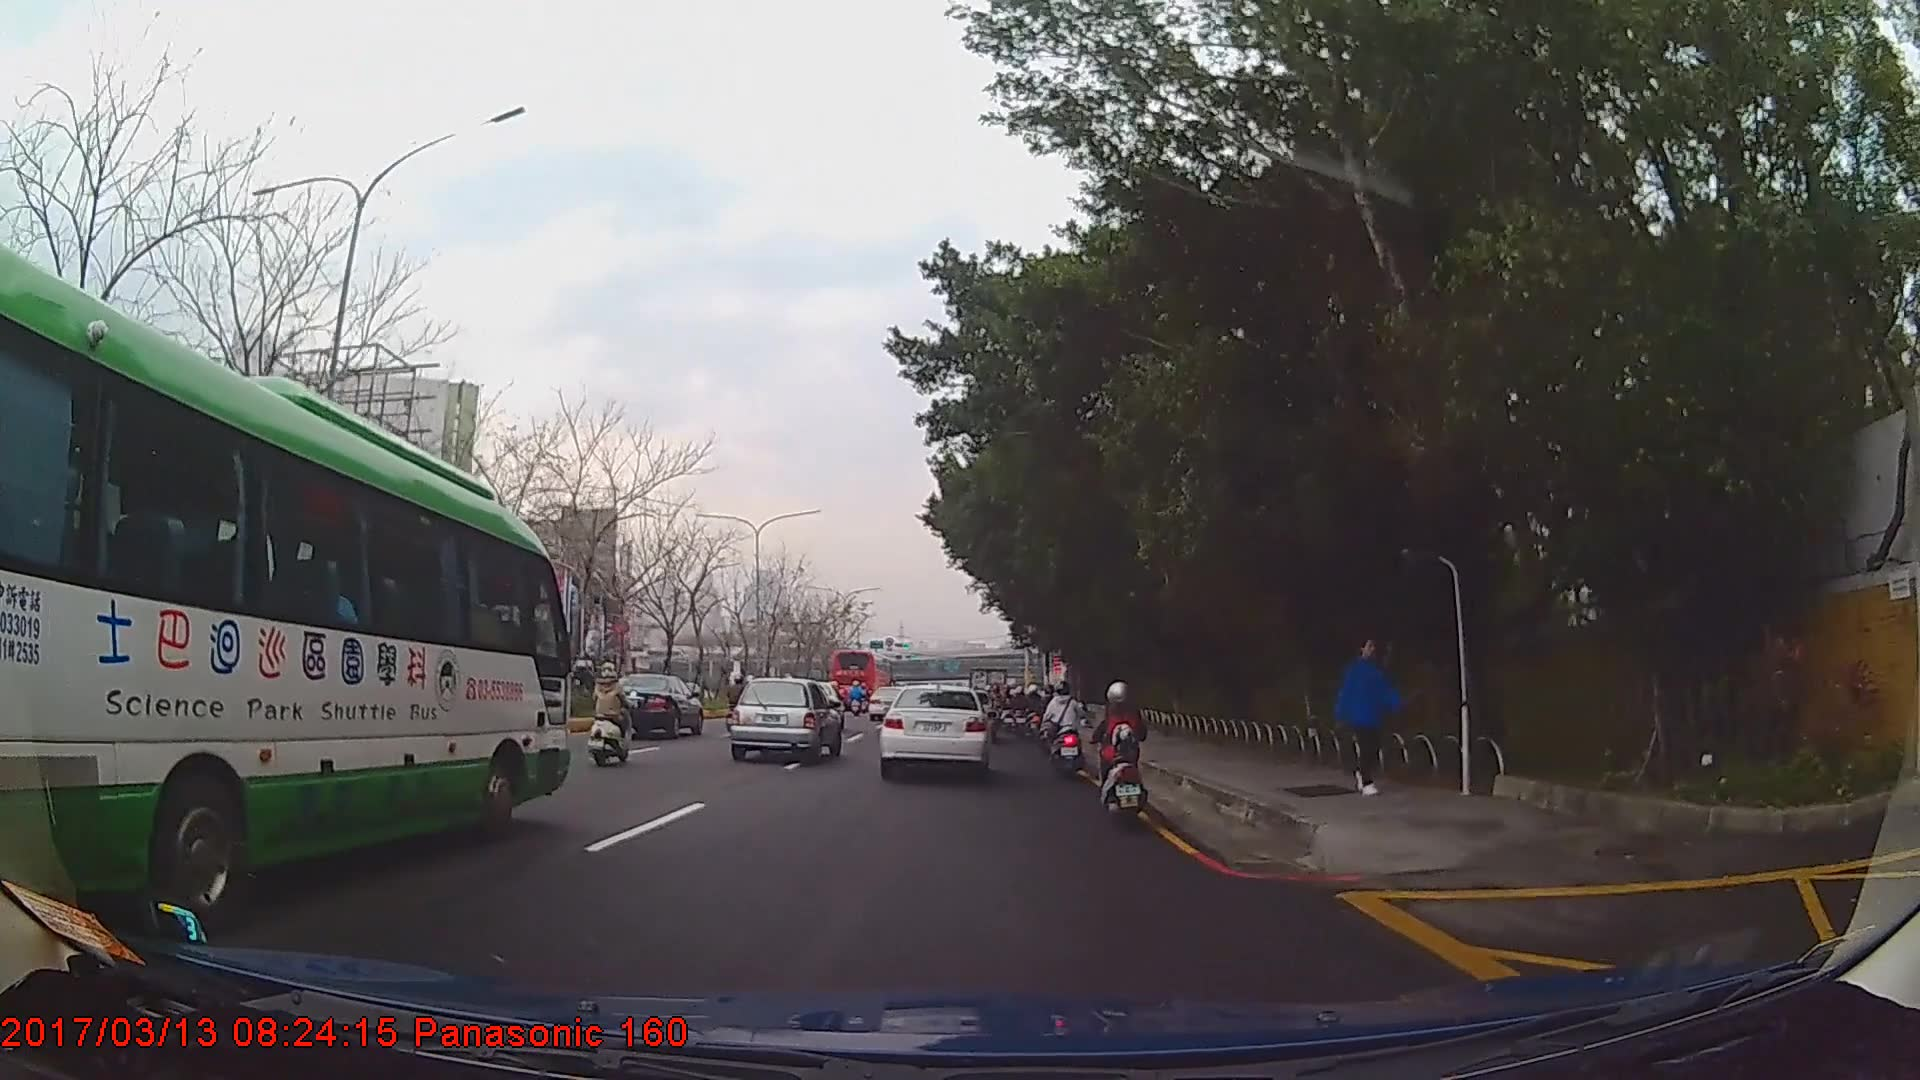pedestrian: (1335, 637, 1395, 796)
rider: (1094, 681, 1147, 829), (588, 663, 636, 770), (1042, 684, 1085, 782), (1037, 687, 1058, 752), (729, 675, 751, 726)
vehicle: (0, 240, 571, 941), (879, 684, 992, 781), (728, 675, 842, 763), (602, 673, 702, 743), (829, 648, 898, 710)
